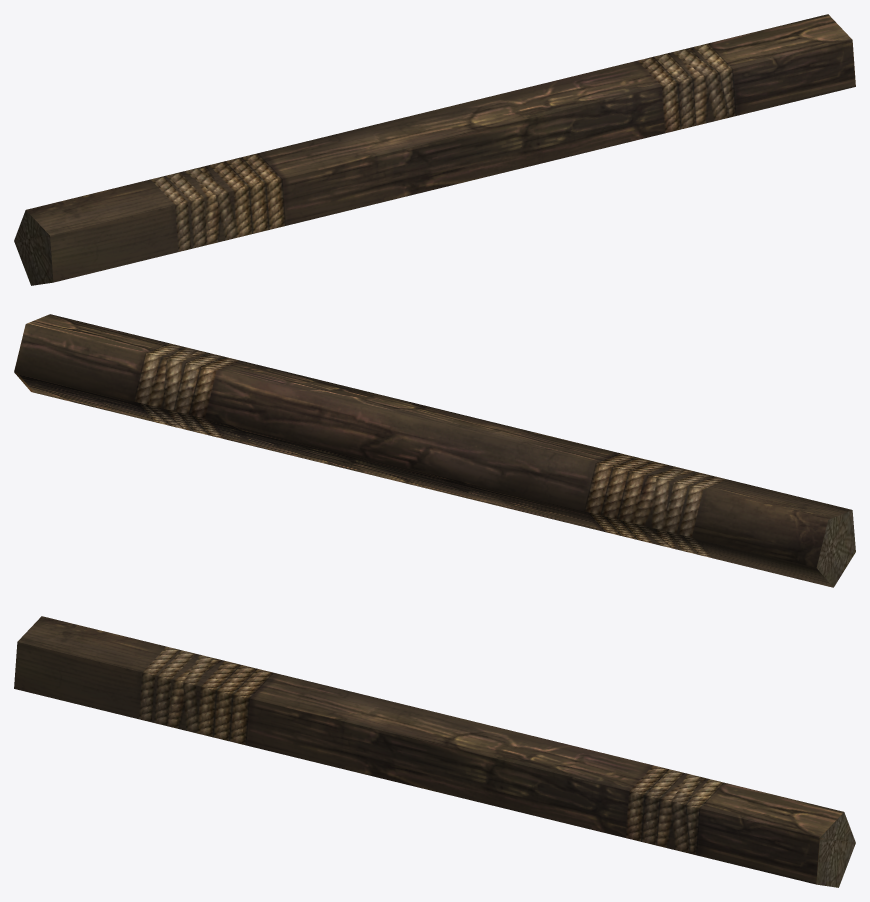
The model's file is A_mutou_003.fbx.
The picture shows the model from 3 angles, top to bottom: view 1: azimuth 30°, elevation 25°; view 2: azimuth 150°, elevation 25°; view 3: azimuth 330°, elevation 25°; orthographic projection.
Parts seen in each view (by area): view 1: pasted__A_mutou_003; view 2: pasted__A_mutou_003; view 3: pasted__A_mutou_003.
Boxes of the visible parts, x1,y1,x2,y2 form: pasted__A_mutou_003: (14,14,855,285); pasted__A_mutou_003: (14,314,855,587); pasted__A_mutou_003: (14,616,855,887).
Bounding box in the file's own units: 488 × 41.82 × 41.55.
